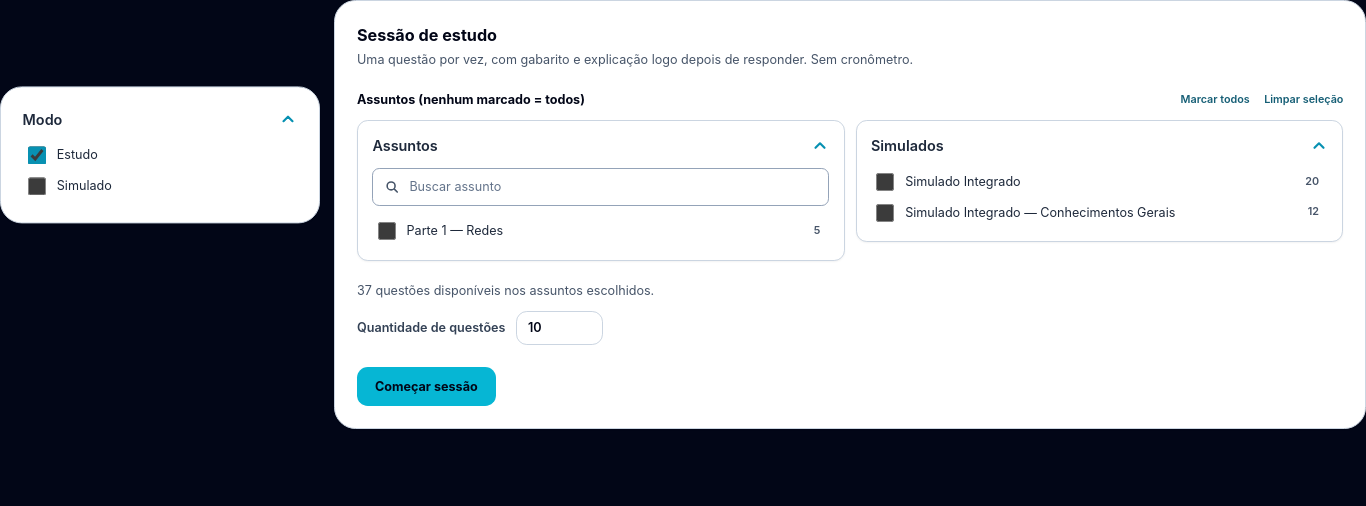
Test: PracticeHub › avisa quando não há questões e não inicia a sessão
This screenshot has width=1366, height=506.
Click the button "Começar sessão".
click(426, 387)  # box [357,367,496,406]
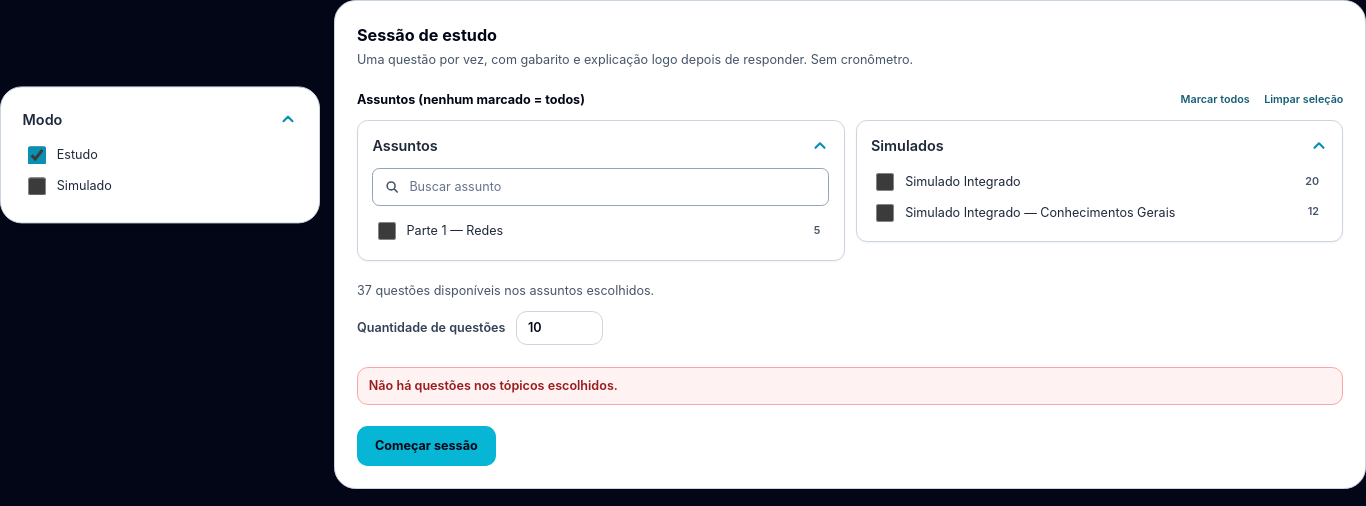
Check: the message reads "Não há questões nos tópicos escolhidos.", box [369,378,618,393]
